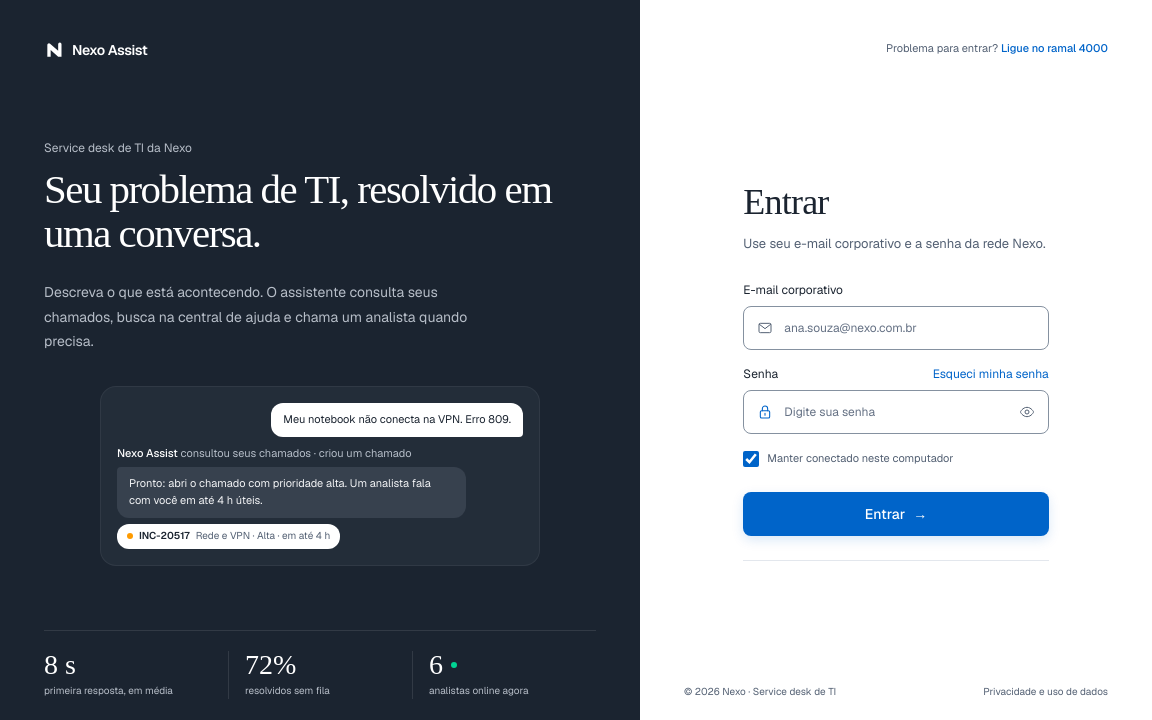
Test: LoginScreen › orienta a recuperação de senha pelo ramal de suporte
Step 1. Click the button "Esqueci minha senha" → (991, 374), box [933,366,1049,382]
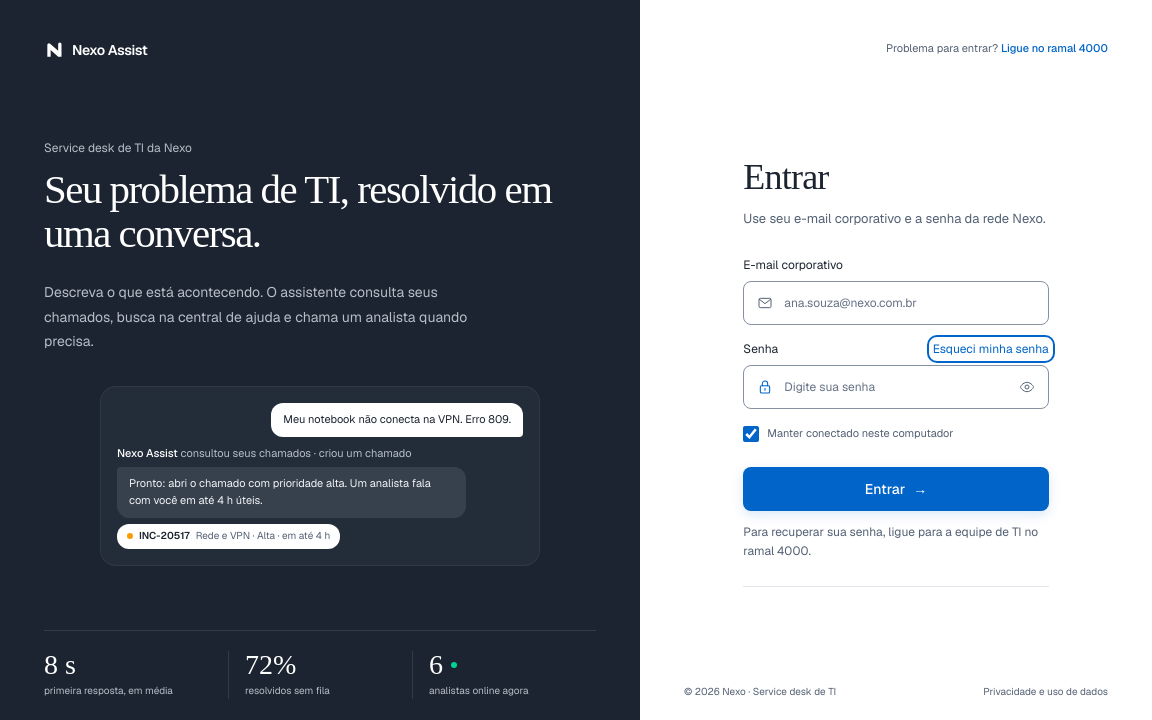
Now the message reads "Para recuperar sua senha, ligue para a equipe de TI no ramal 4000.", box [743,524,1038,559]
